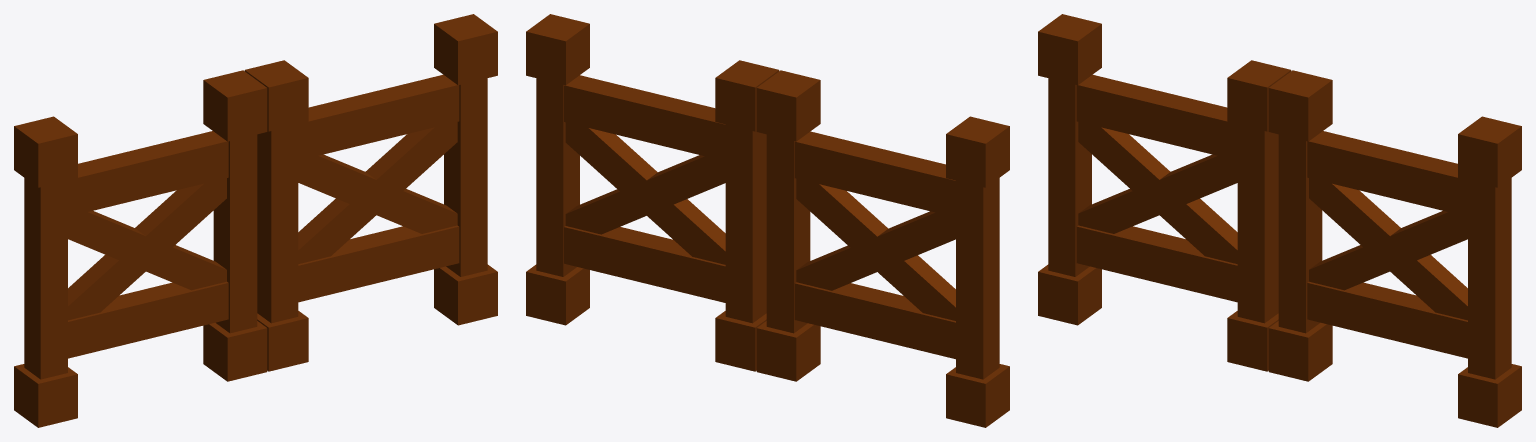
3 renders of one model, left to right at view 1: azimuth 30°, elevation 25°; view 2: azimuth 150°, elevation 25°; view 3: azimuth 330°, elevation 25°, orthographic.
Parts seen in each view (by area): view 1: object3; view 2: object3; view 3: object3.
Boxes of the visible parts, box(x1,y1,x2,y2) form: object3: box(14, 14, 497, 427); object3: box(526, 14, 1009, 427); object3: box(1038, 14, 1521, 427).
Size of the model in its own units: 356 by 210 by 32.36.
